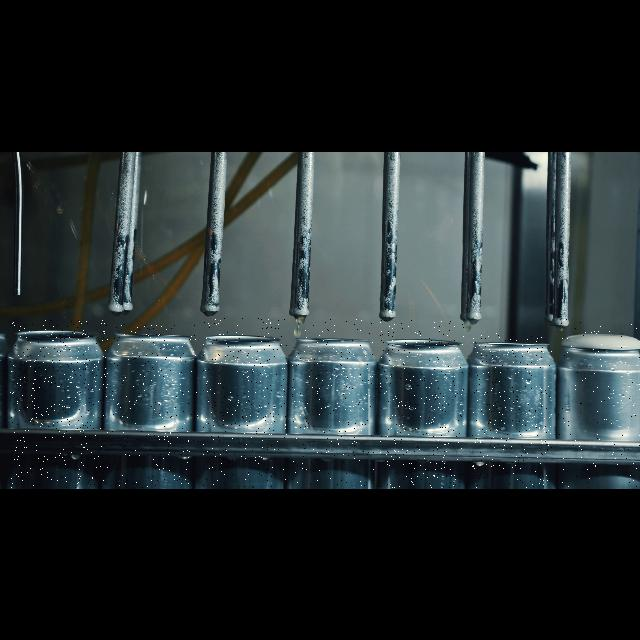empty: (10, 320, 108, 488), (203, 318, 287, 488), (380, 320, 464, 488), (112, 324, 198, 488), (292, 318, 374, 488), (472, 332, 552, 488)
full: (558, 318, 640, 488)
